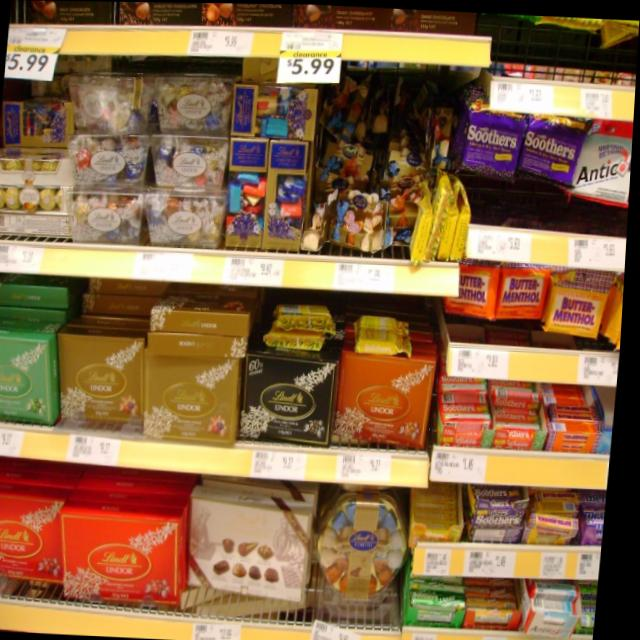q112: (144, 338, 247, 448), (58, 324, 155, 434)
q115: (238, 345, 339, 444)
